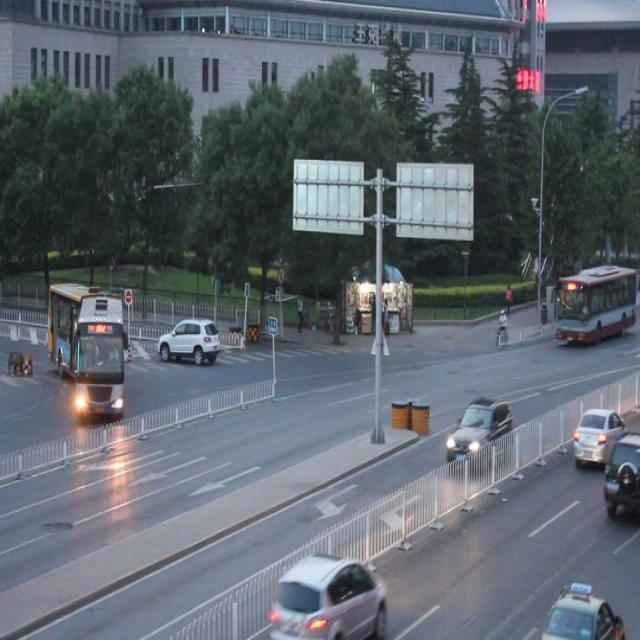car: (270, 552, 387, 640), (443, 392, 513, 470), (536, 580, 622, 640), (599, 433, 640, 515), (570, 406, 621, 469), (158, 314, 218, 366)
van: (47, 278, 128, 414)
